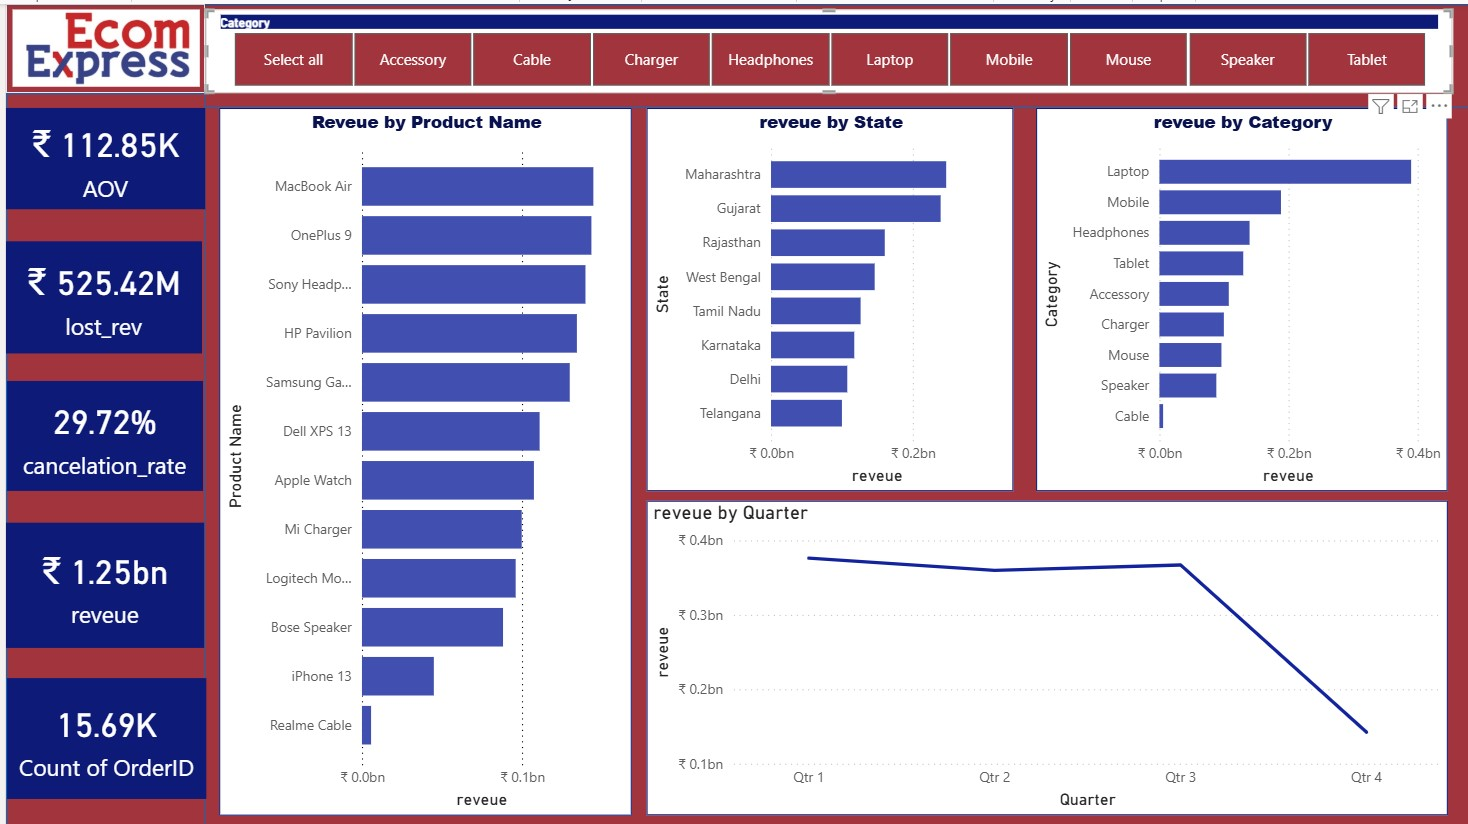

Layout of this report page (visuals, bound fields, positions):
{"tool":"powerbi","page":{"name":"Page 1","canvas":[1280,720],"ordinal":0},"visuals":[{"type":"shape","box":[0,0,1280,91.1],"z":0},{"type":"image","box":[0,0,174.4,77.8],"z":1000},{"type":"shape","box":[0,77.8,174.4,642.2],"z":2000},{"type":"barChart","title":"Reveue by Product Name","fields":{"Y":["Table.reveue"],"Category":["Products.Product Name"]},"box":[186.7,91.1,361.1,618.9],"z":3000},{"type":"barChart","fields":{"Category":["Products.Category"],"Y":["Table.reveue"]},"box":[901.1,91.1,360,335.6],"z":4000},{"type":"lineChart","fields":{"Category":["Orders.Date and time of purchase.Variation.Date Hierarchy.Year","Orders.Date and time of purchase.Variation.Date Hierarchy.Quarter","Orders.Date and time of purchase.Variation.Date Hierarchy.Month","Orders.Date and time of purchase.Variation.Date Hierarchy.Day"],"Y":["Table.reveue"]},"box":[560,434.4,701.1,275.6],"z":5000},{"type":"barChart","fields":{"Category":["Customers.State"],"Y":["Table.reveue"]},"box":[560,91.1,321.1,335.6],"z":6000},{"type":"slicer","fields":{"Values":["Products.Category"]},"box":[174.4,4.4,1091.1,73.3],"z":7000},{"type":"card","fields":{"Values":["Table.AOV"]},"box":[0,91.1,174.4,88.9],"z":8000},{"type":"card","fields":{"Values":["Table.cancelation_rate"]},"box":[1.1,330,171.1,96.7],"z":9000},{"type":"card","fields":{"Values":["Table.lost_rev"]},"box":[0,207.8,171.1,97.8],"z":10000},{"type":"card","fields":{"Values":["Table.reveue"]},"box":[0,453.3,173.3,110],"z":11000},{"type":"card","title":"total orders","fields":{"Values":["CountNonNull(Orders.OrderID)"]},"box":[1.1,590,174.4,105.6],"z":12000}]}

Visuals, with their boxes in screenshot pixels (x1, y1, x2, y2), scaled from the page's 1280x720 canvas onto the 1468x824 screenshot:
shape: 0/0/1467/104
image: 0/0/200/89
shape: 0/89/200/823
"Reveue by Product Name" barChart: 214/104/628/813
barChart - Products.Category x Table.reveue: 1033/104/1446/488
lineChart - Orders.Date and time of purchase.Variation.Date Hierarchy.Year x Orders.Date and time of purchase.Variation.Date Hierarchy.Quarter: 642/497/1446/813
barChart - Customers.State x Table.reveue: 642/104/1011/488
slicer - Products.Category: 200/5/1451/89
card - Table.AOV: 0/104/200/206
card - Table.cancelation_rate: 1/378/197/488
card - Table.lost_rev: 0/238/196/350
card - Table.reveue: 0/519/199/645
"total orders" card: 1/675/201/796
